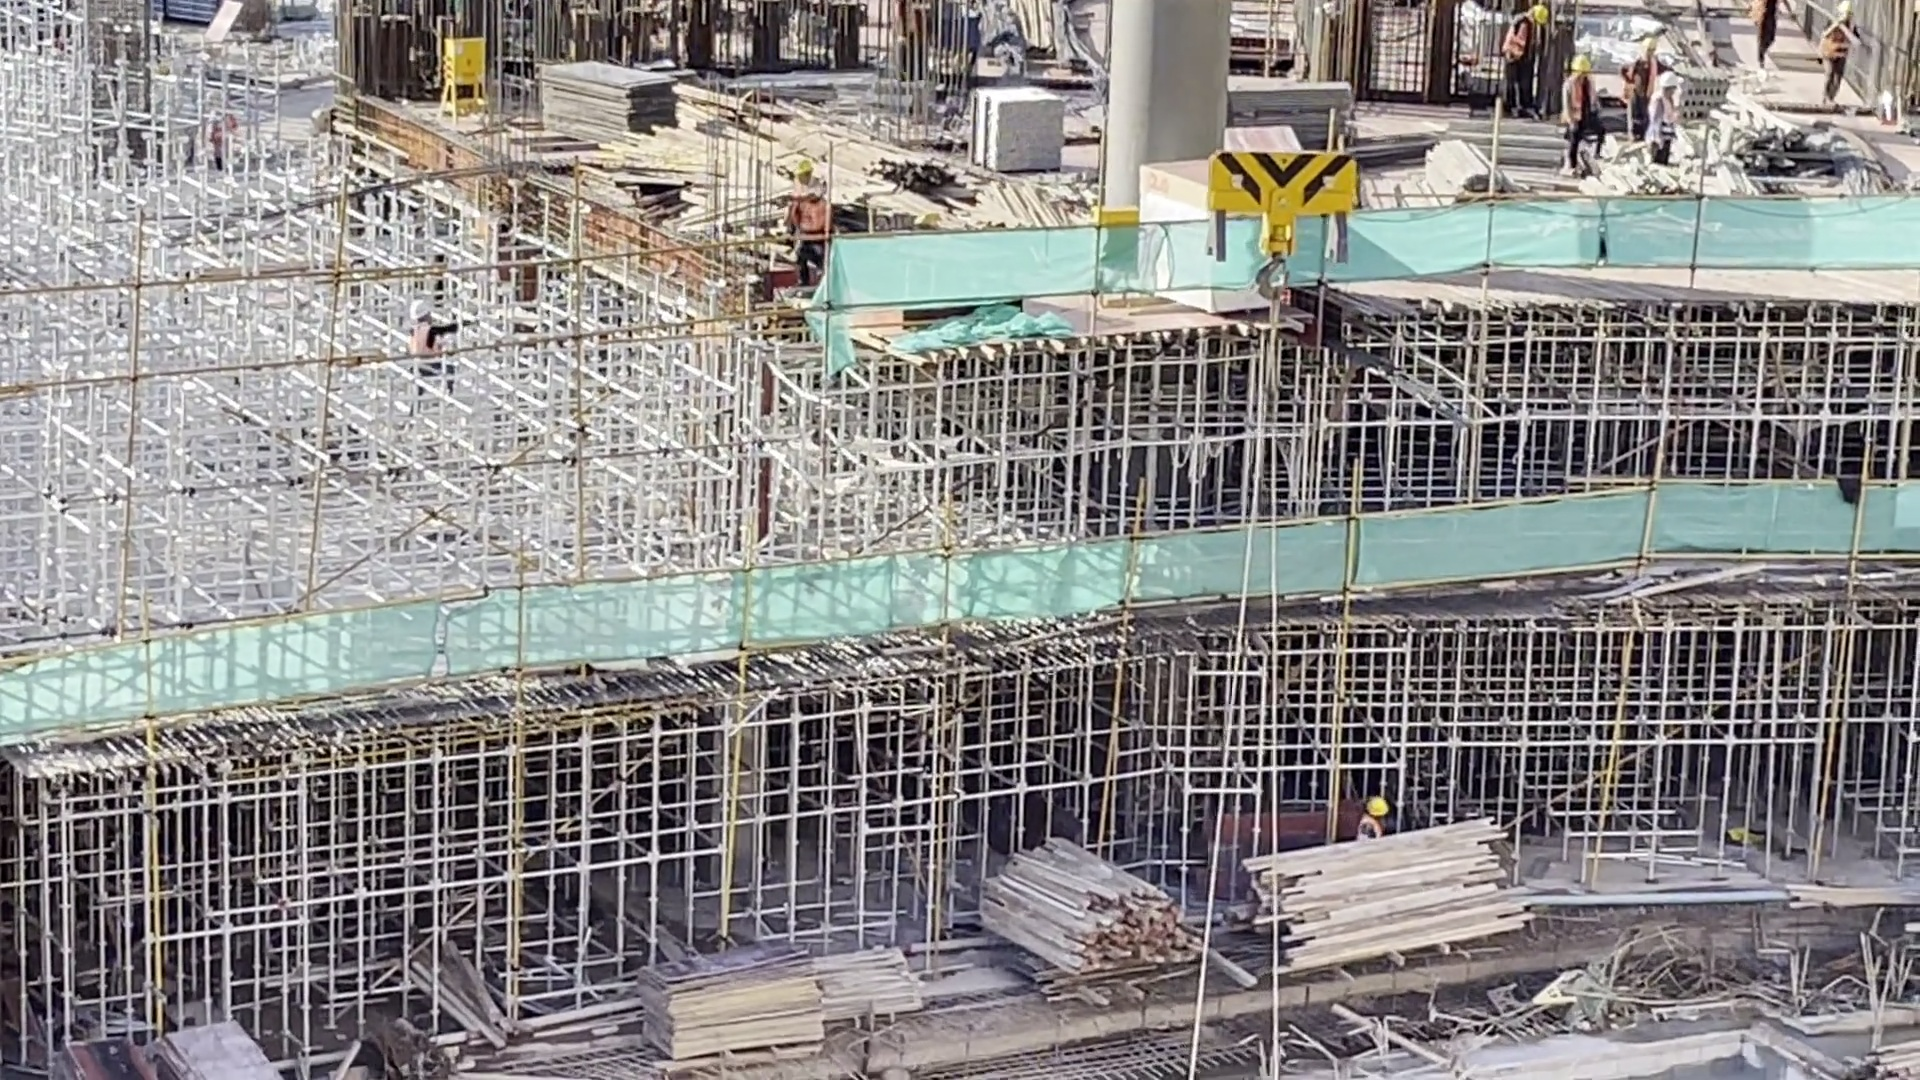board: (628, 949, 834, 1064), (528, 53, 686, 149), (154, 1016, 279, 1080), (1228, 77, 1353, 123), (54, 1030, 159, 1080), (1224, 123, 1303, 152)
ebox: (429, 32, 491, 126)
helmet: (407, 298, 430, 321), (1568, 54, 1593, 73), (789, 159, 817, 175), (1365, 798, 1389, 816), (1835, 1, 1857, 19), (1530, 5, 1548, 24), (1660, 69, 1676, 89), (1640, 37, 1657, 51)
hook: (1210, 150, 1355, 305)
person: (1561, 53, 1612, 172), (1502, 5, 1553, 118), (1620, 36, 1674, 140), (770, 157, 824, 238), (1819, 1, 1860, 98), (1642, 66, 1681, 161), (403, 299, 460, 353), (1750, 1, 1786, 64), (1355, 795, 1391, 838)
scaffold: (971, 82, 1060, 176)
vest: (791, 177, 825, 233), (1565, 75, 1600, 120), (1504, 13, 1530, 63), (1651, 94, 1674, 139)
wood: (1238, 838, 1536, 972), (970, 834, 1206, 972), (1425, 137, 1488, 192)
